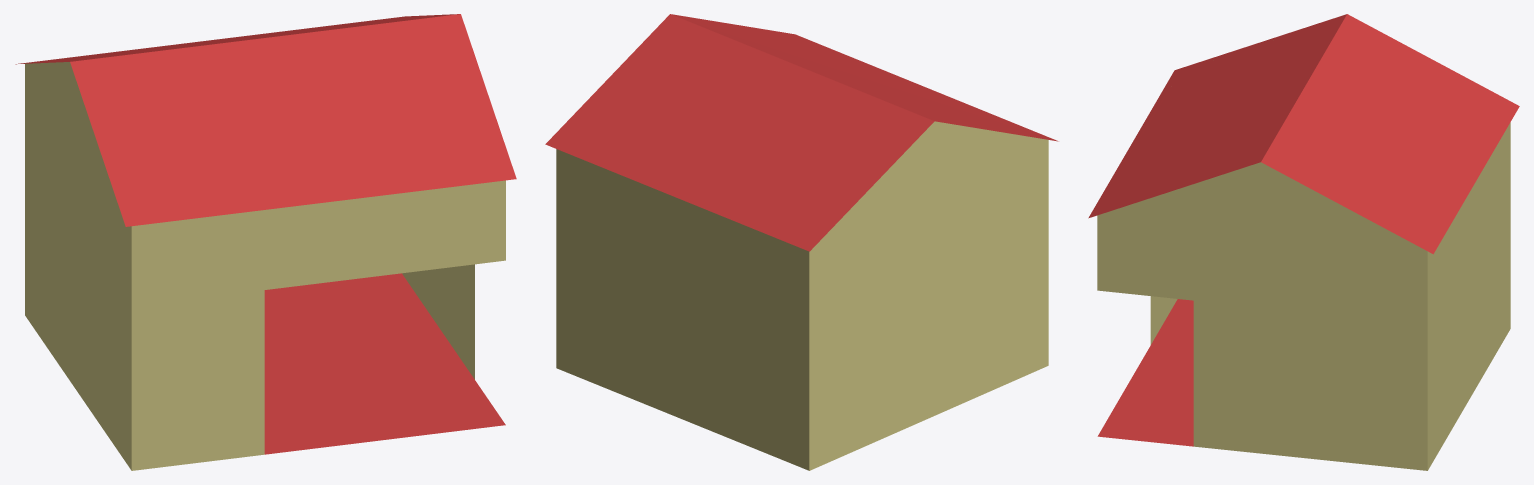
3 views of the same model, side by side, from view 1: azimuth 30°, elevation 25°; view 2: azimuth 150°, elevation 25°; view 3: azimuth 270°, elevation 25° (orthographic). The views are drawn at different scales.
Size of the model in its own units: 14.11 by 13.99 by 10.54.
